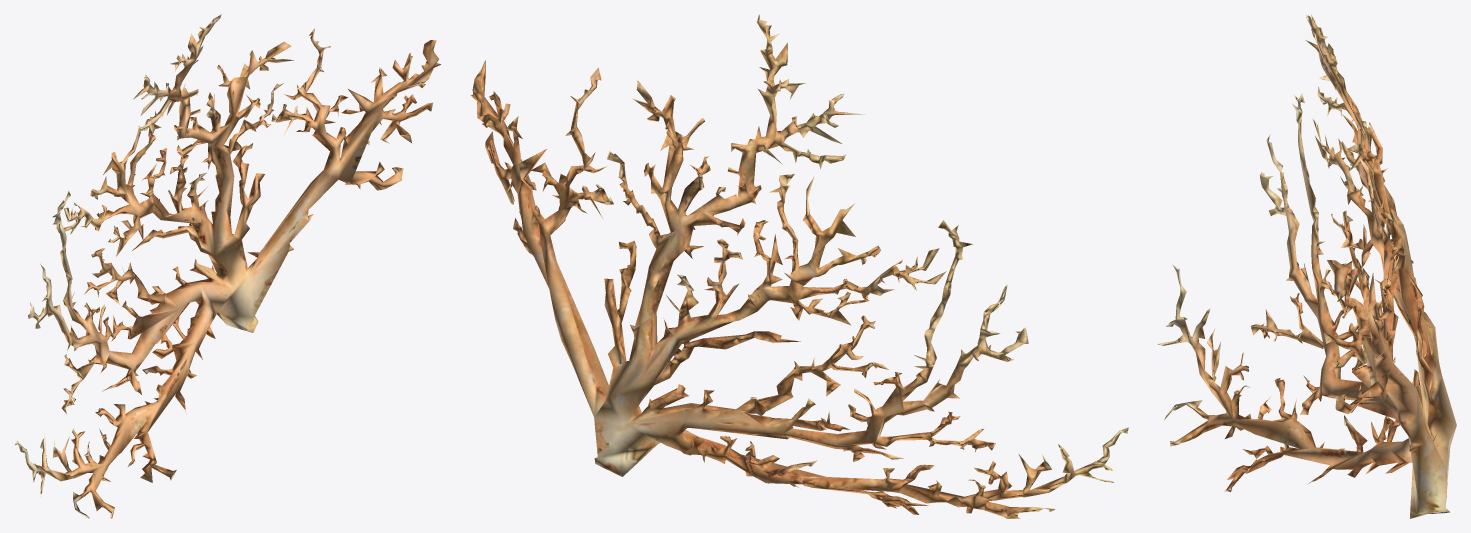
File: deep.glb
3 views of the same model, side by side, from view 1: azimuth 30°, elevation 25°; view 2: azimuth 150°, elevation 25°; view 3: azimuth 270°, elevation 25° (orthographic). The views are drawn at different scales.
Size of the model in its own units: 0.4172 by 0.3447 by 0.1761.
1 material, 1 textured.
